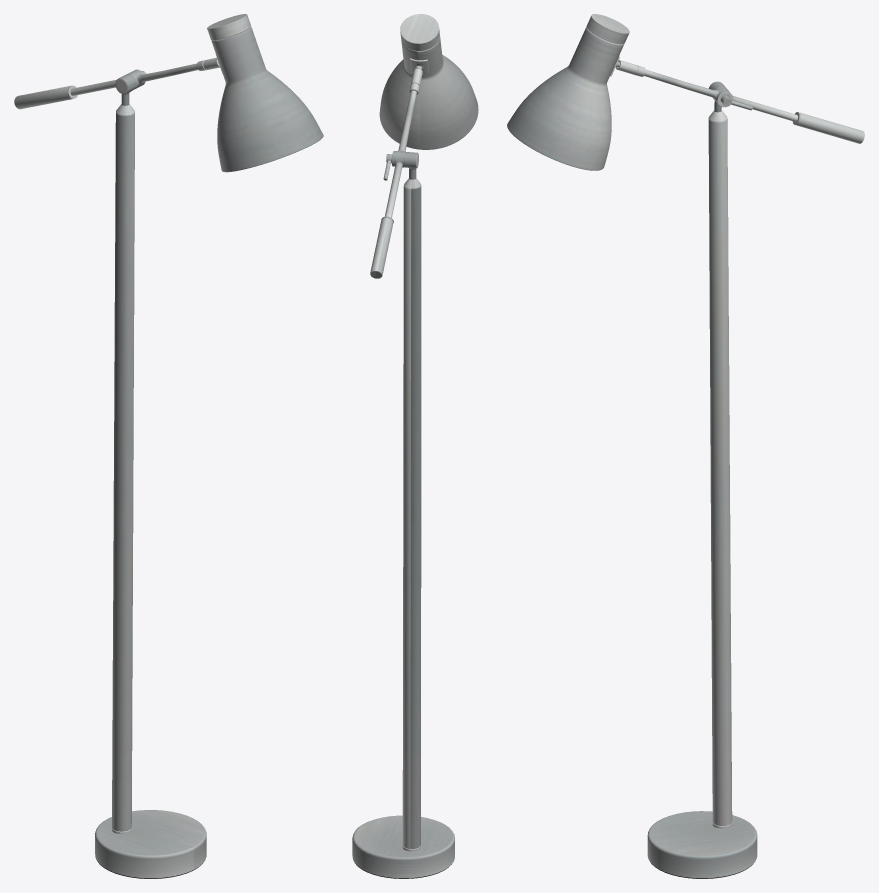
Rendered from Stand-Lamp.glb.
3 views of the same model, side by side, from view 1: azimuth 30°, elevation 25°; view 2: azimuth 150°, elevation 25°; view 3: azimuth 270°, elevation 25° (orthographic). The views are drawn at different scales.
Visible parts, largest first — view 1: SM_MERGED_StaticMeshActor_1; view 2: SM_MERGED_StaticMeshActor_1; view 3: SM_MERGED_StaticMeshActor_1.
Boxes of the visible parts, left/top/right/bottom form: SM_MERGED_StaticMeshActor_1: left=14, top=14, right=323, bottom=878; SM_MERGED_StaticMeshActor_1: left=352, top=14, right=478, bottom=878; SM_MERGED_StaticMeshActor_1: left=507, top=14, right=864, bottom=878.
Bounding box in the file's own units: 0.1886 × 1.05 × 0.3973.
4 materials, 1 textured.
